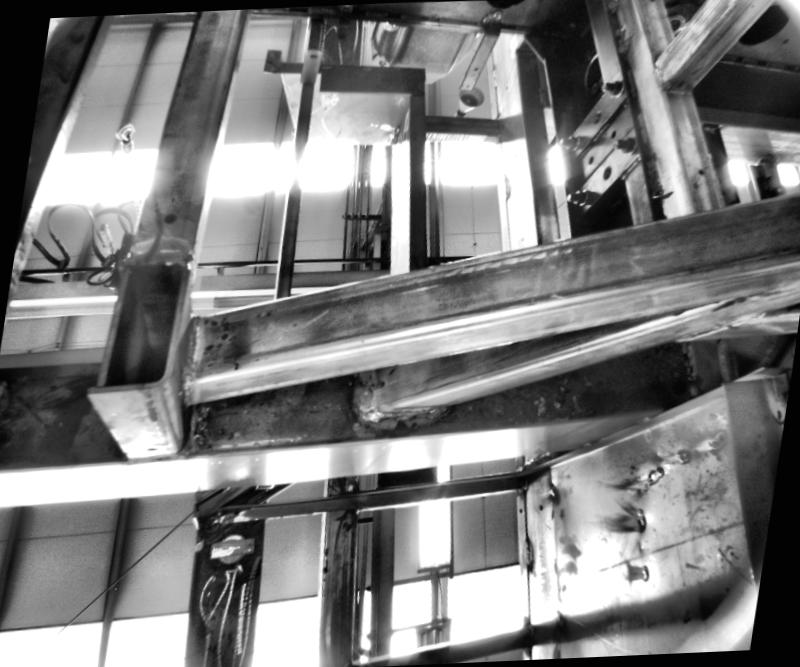bolt: (598, 72, 626, 94), (611, 134, 642, 152), (564, 184, 590, 203), (557, 132, 580, 147)
bracket: (550, 63, 660, 216), (462, 3, 503, 90), (300, 32, 322, 83)
hole: (159, 205, 179, 224), (372, 377, 388, 389), (591, 106, 604, 120), (600, 164, 611, 180), (586, 152, 594, 164), (144, 444, 156, 452), (610, 126, 618, 137), (698, 165, 706, 173), (472, 63, 479, 70), (463, 80, 470, 87), (308, 49, 316, 55), (518, 234, 526, 240), (538, 503, 544, 509), (518, 506, 522, 511), (505, 84, 508, 88)
welding: (354, 403, 447, 421), (354, 366, 382, 418), (181, 313, 203, 378), (520, 536, 534, 568), (480, 8, 503, 18), (488, 64, 499, 84)
